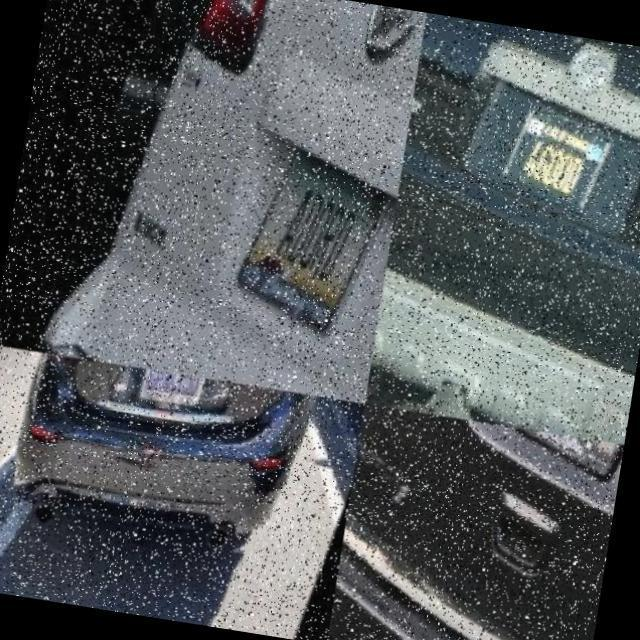License Plate: (230, 144, 390, 338), (502, 90, 622, 210), (497, 427, 623, 523), (140, 369, 205, 405)
